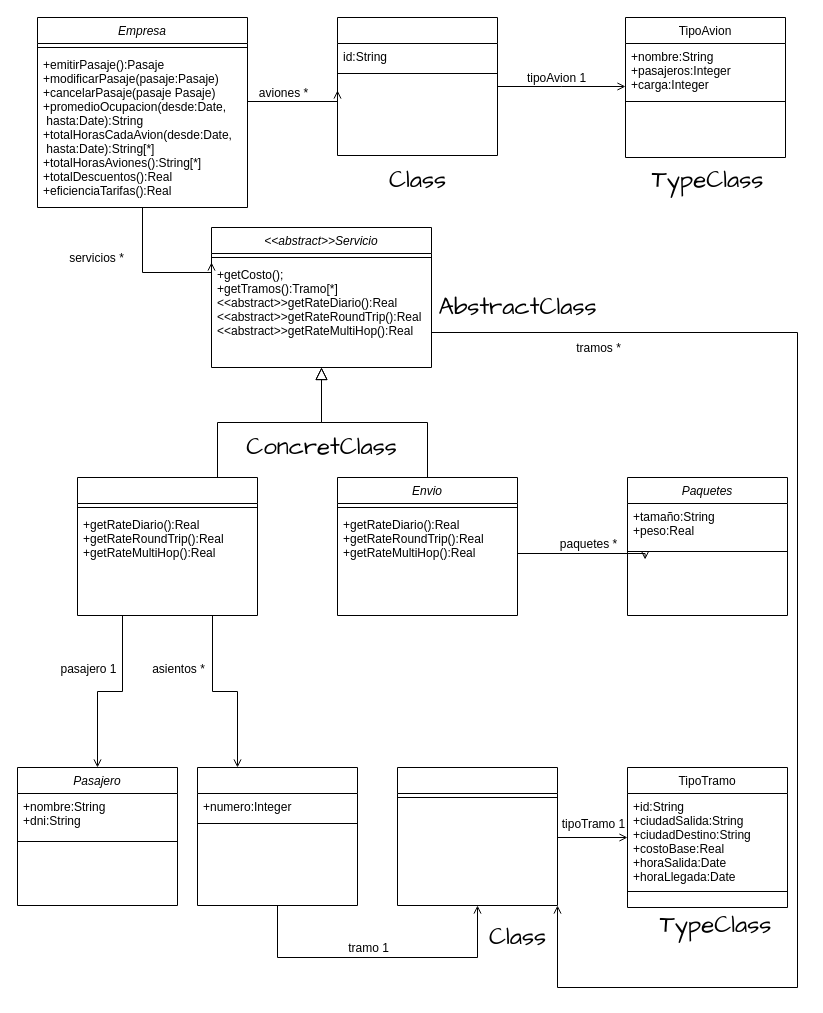
Image size: 823x1013. Some labels were removed from this diagram. The shapes that lost their labels are listed below. From the top down, each one's box as (x1, y1, x2, y2) in pixels, then its label:
(336, 16, 498, 156): Avion
(76, 476, 258, 616): Pasaje
(196, 766, 358, 906): Asiento
(396, 766, 558, 906): Tramo
